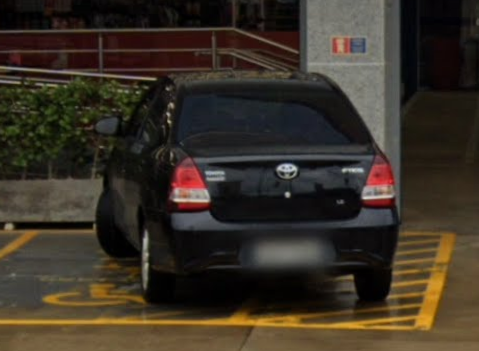car: (92, 61, 403, 316)
